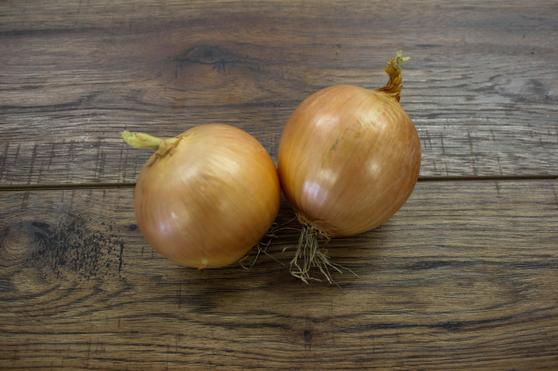onion: (278, 68, 427, 241), (128, 121, 285, 270)
